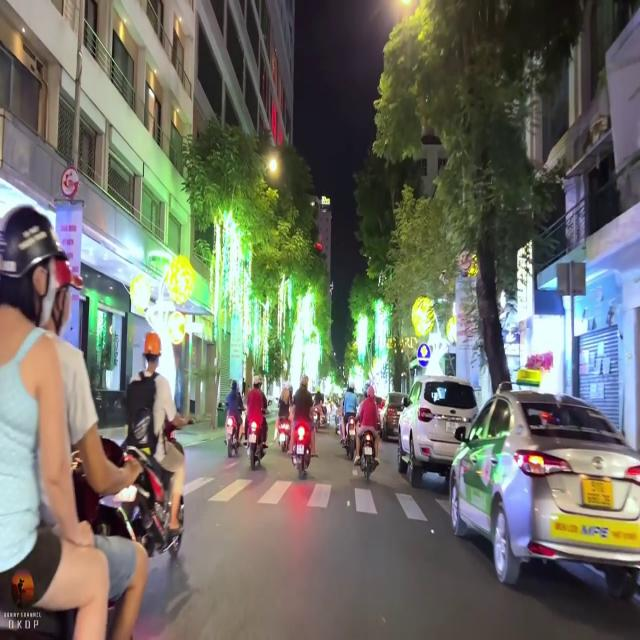bien_vang: (580, 475, 613, 506)
